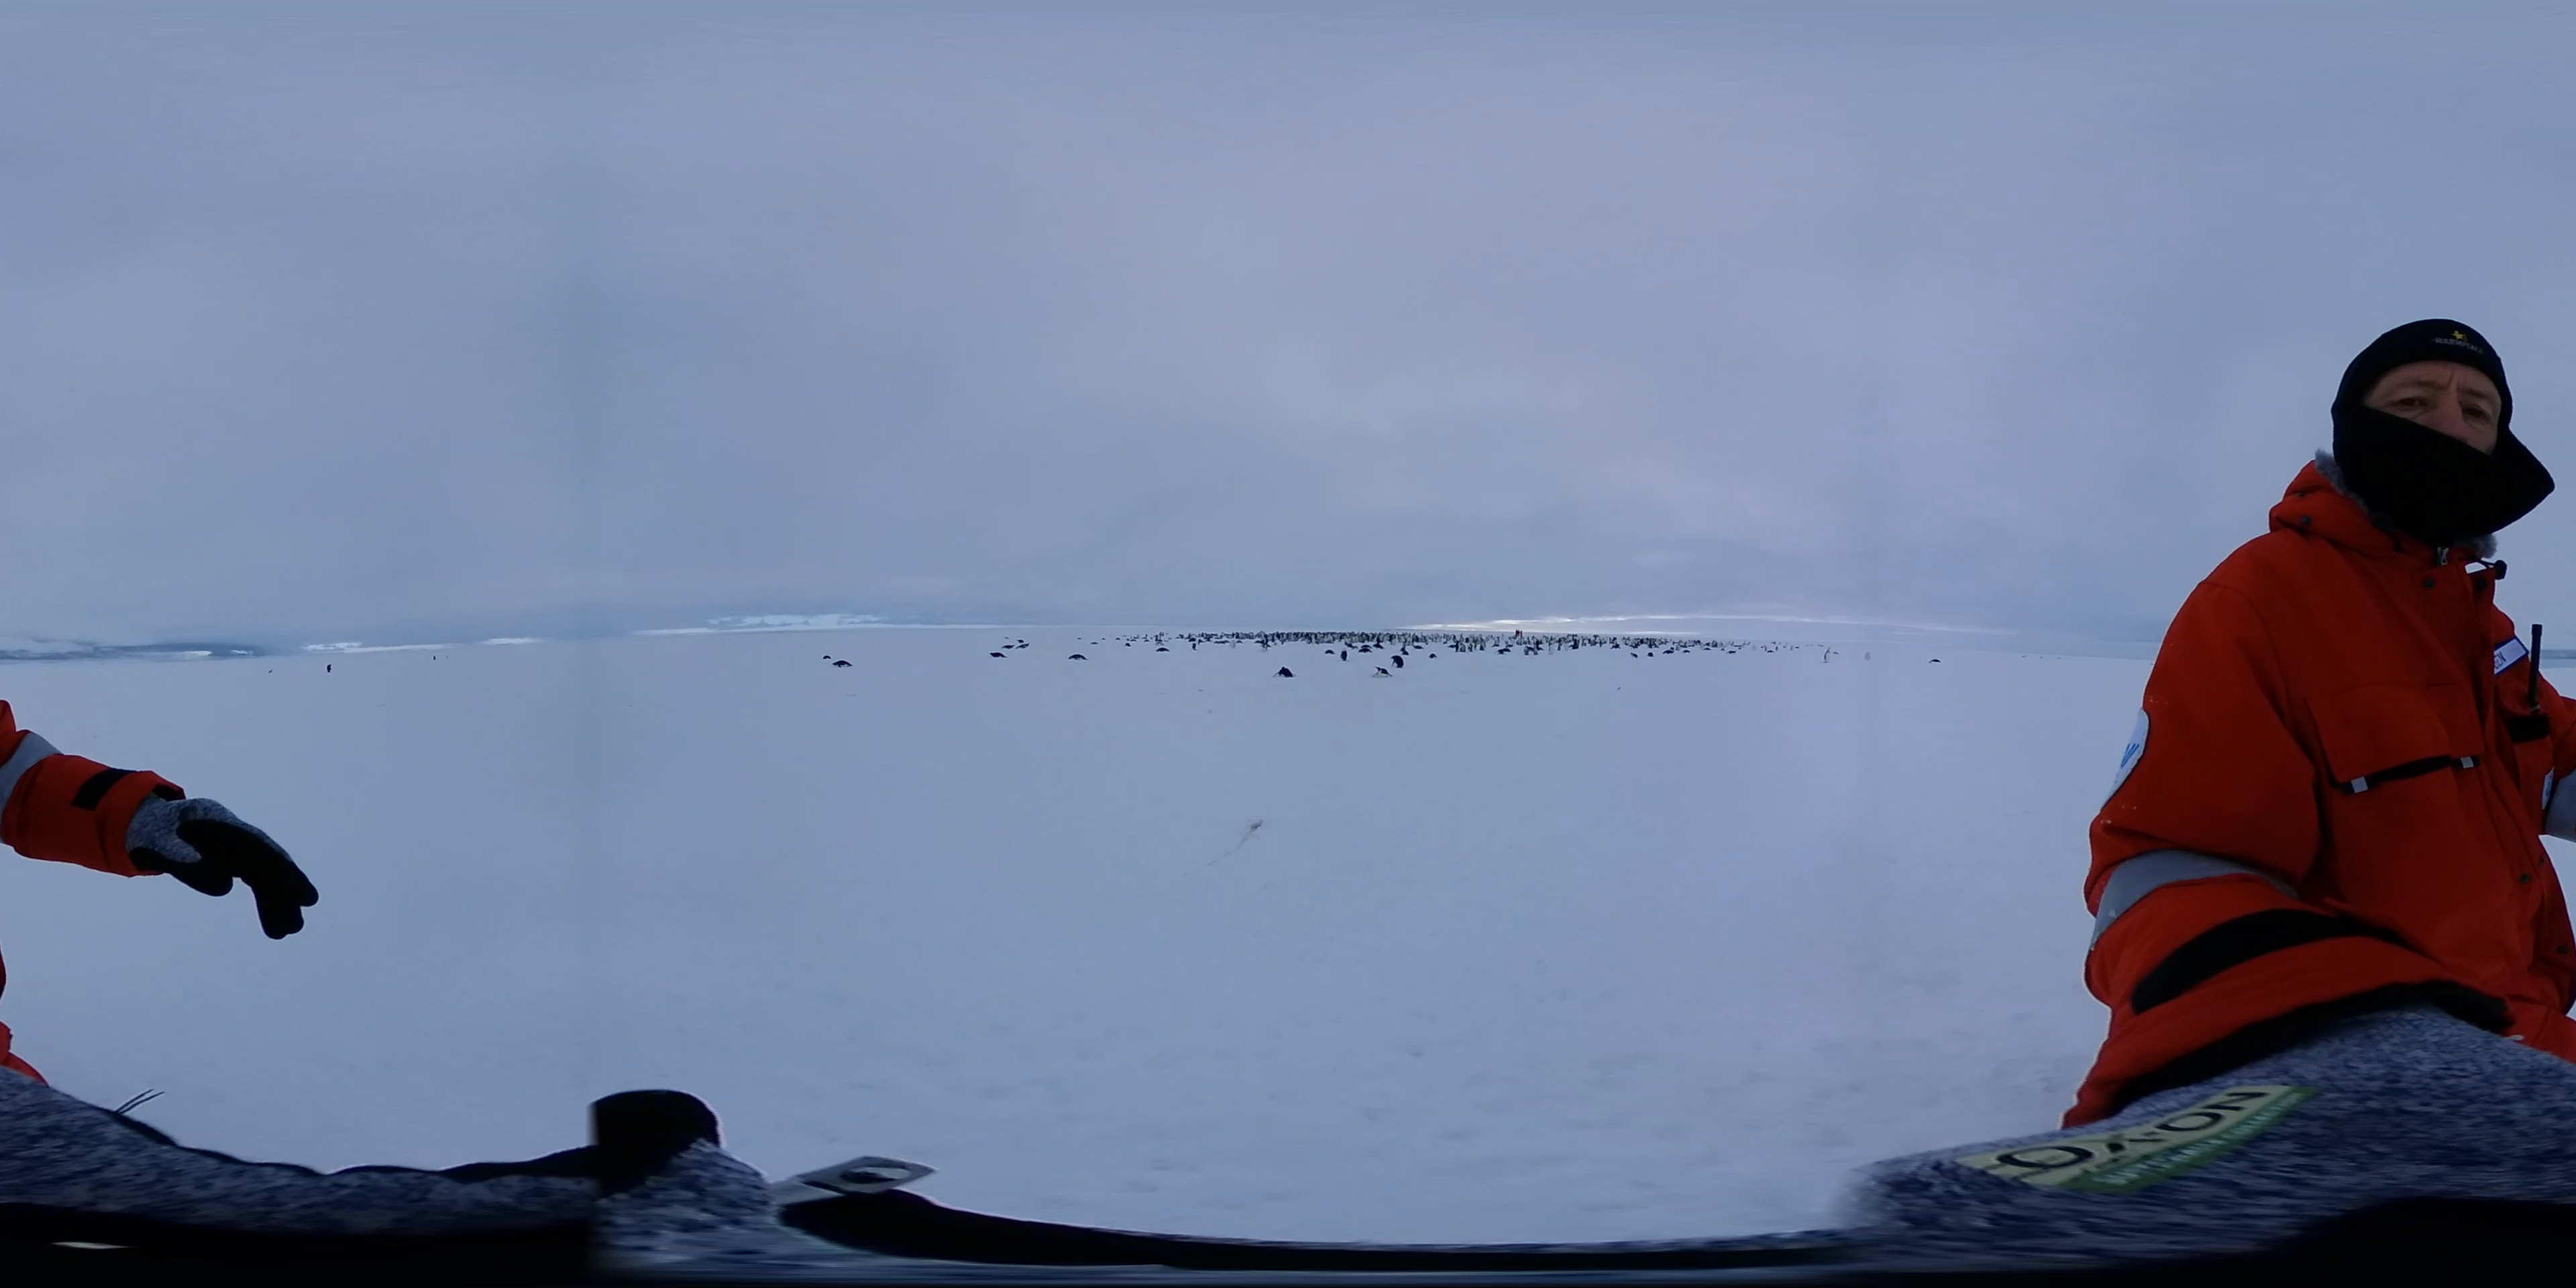adult_standing_penguin: (1390, 654, 1405, 670)
adult_toboggan_penguin: (1270, 662, 1295, 680), (1370, 665, 1393, 680), (828, 659, 856, 670)
researcher: (2067, 283, 2576, 1104), (0, 637, 333, 1288)
